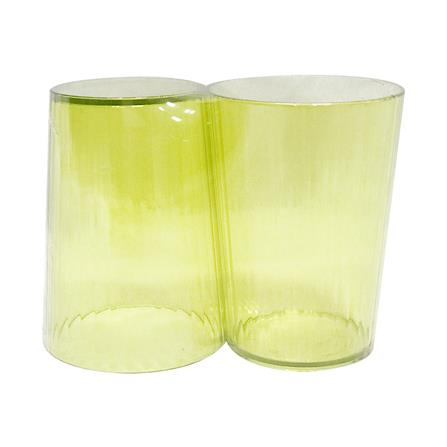plastic_bottle: (204, 72, 410, 372)
